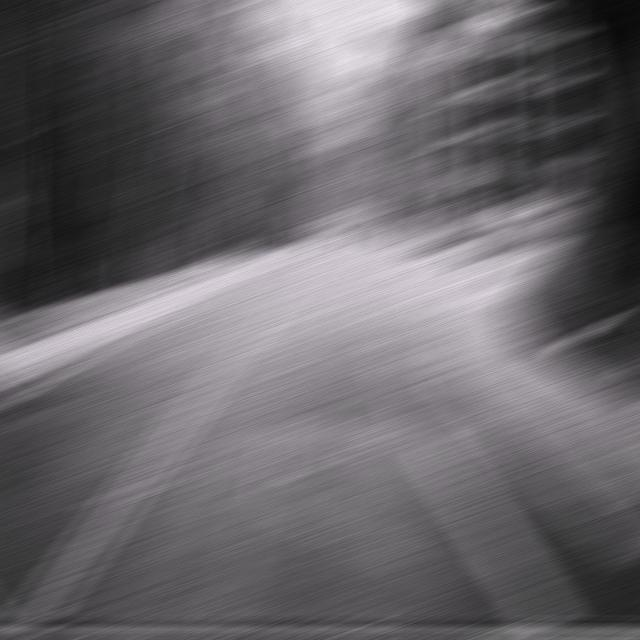pedestrianCrossing: (442, 165, 479, 193)
